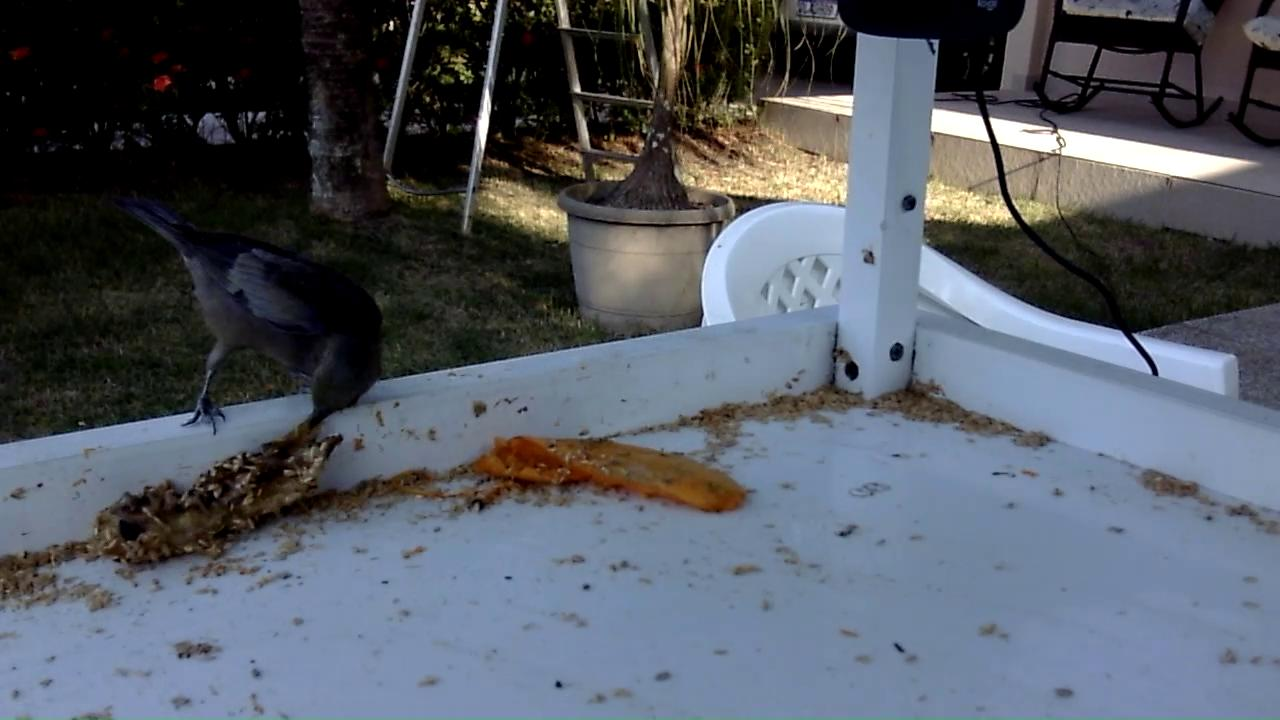sanhaco_do_coqueiro: (119, 191, 390, 437)
